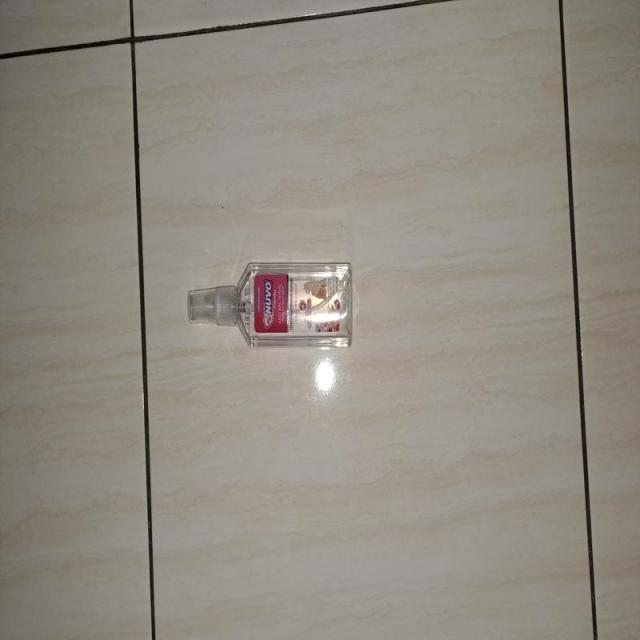Anorganik: (185, 262, 367, 354)
